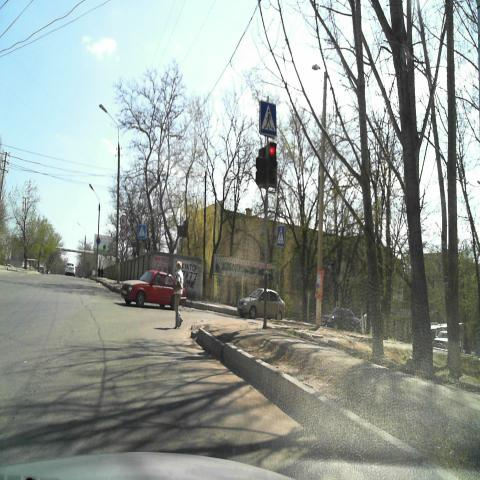3_11: (119, 215, 128, 228)
